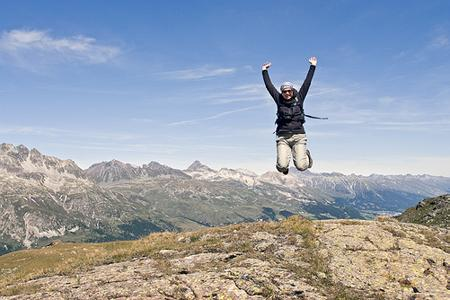person: (260, 57, 320, 172)
